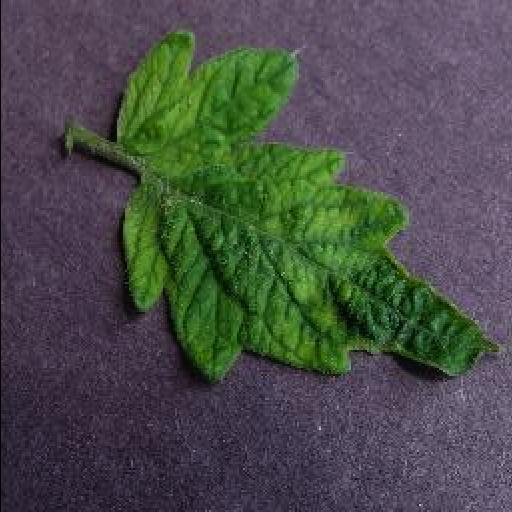disease_tomato: (112, 30, 502, 384)
